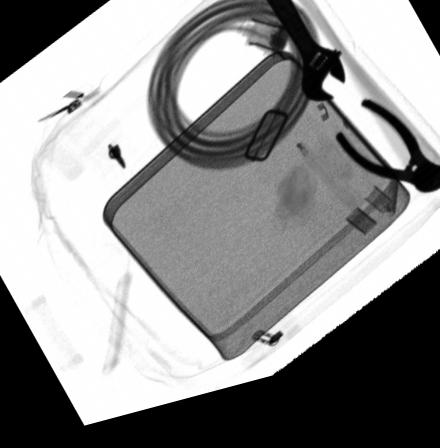Pliers: (333, 117, 440, 218)
Wrench: (258, 0, 346, 120)
